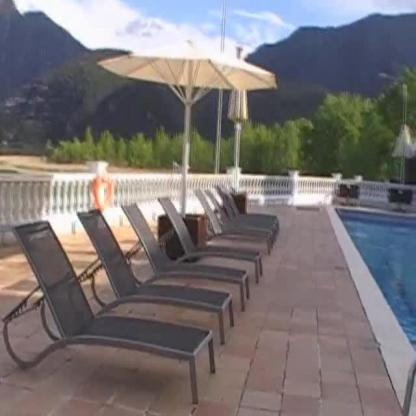other: (138, 36, 276, 77), (31, 195, 221, 222)
